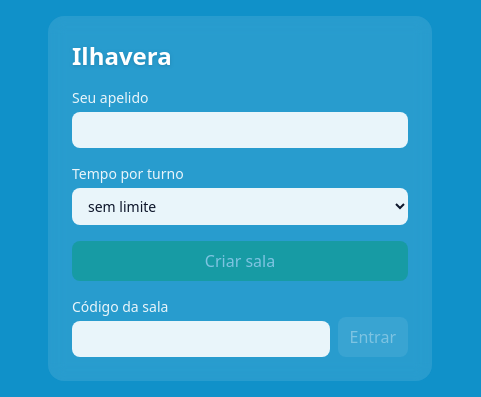
tela de entrada › criar sala leva para a sala, com o código à vista
(page scrolled)
Type "Ana" into the field with test id "apelido" at (240, 130), box [72,112,408,148]
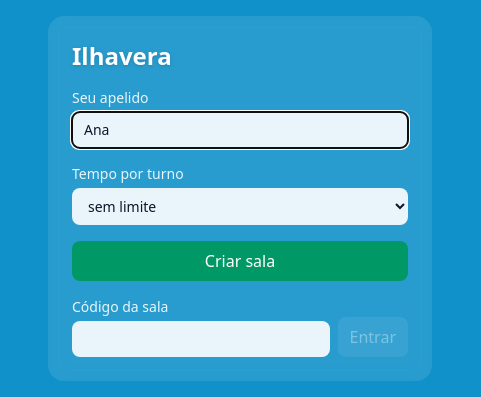
Click the button "Criar sala" at (240, 261), box [72,241,408,281]
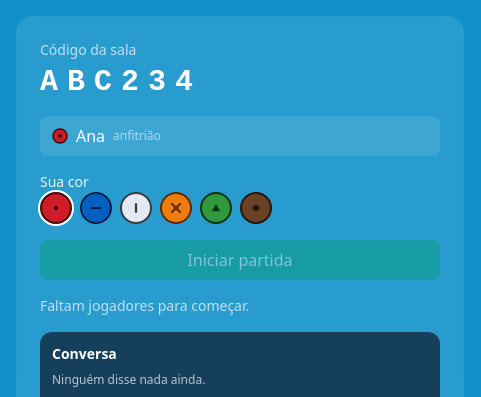
Check: the text with test id "codigo-da-sala" reads "ABC234", box [40,65,202,99]
